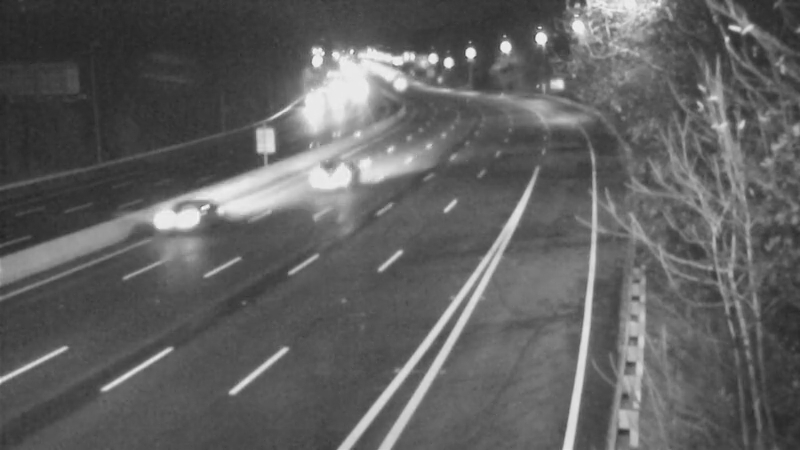vehicle: (294, 136, 374, 216), (141, 173, 221, 253), (372, 58, 422, 108), (283, 84, 333, 134)
